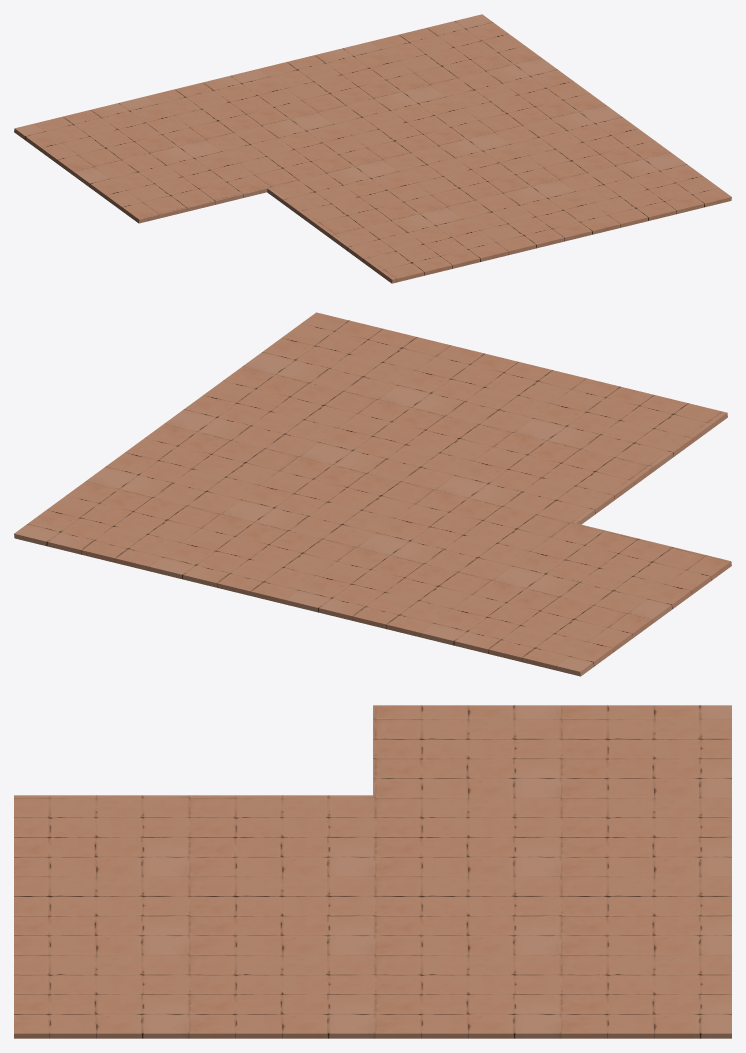
Rendered from floor.fbx.
3 views of the same model, one above another, from view 1: azimuth 30°, elevation 25°; view 2: azimuth 150°, elevation 25°; view 3: azimuth 270°, elevation 25° (orthographic). The views are drawn at different scales.
Parts seen in each view (by area): view 1: floor; view 2: floor; view 3: floor.
Part boxes in pixels (bbox=[...]): floor: bbox=[14, 14, 731, 283]; floor: bbox=[14, 312, 731, 676]; floor: bbox=[14, 705, 731, 1038].
Size of the model in its own units: 1398 by 10.64 by 1292.
Materials: 1 (1 with a texture image).
